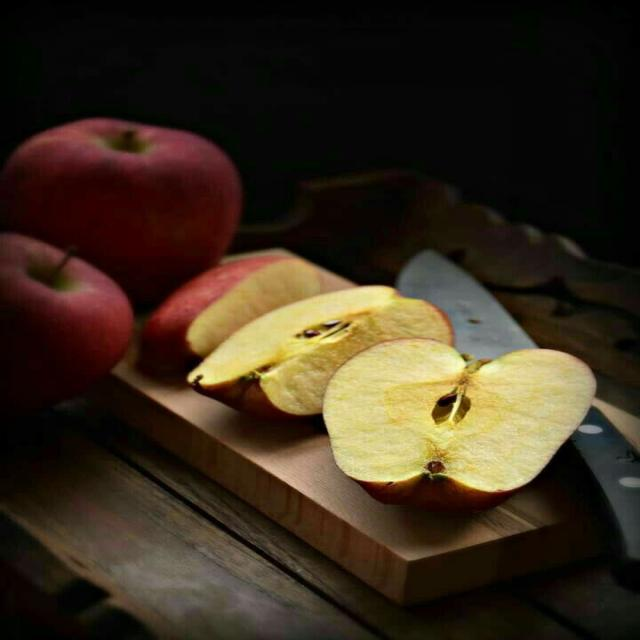apple: (323, 339, 595, 511), (0, 118, 241, 303), (188, 286, 453, 417), (0, 233, 133, 414), (137, 256, 322, 375)
